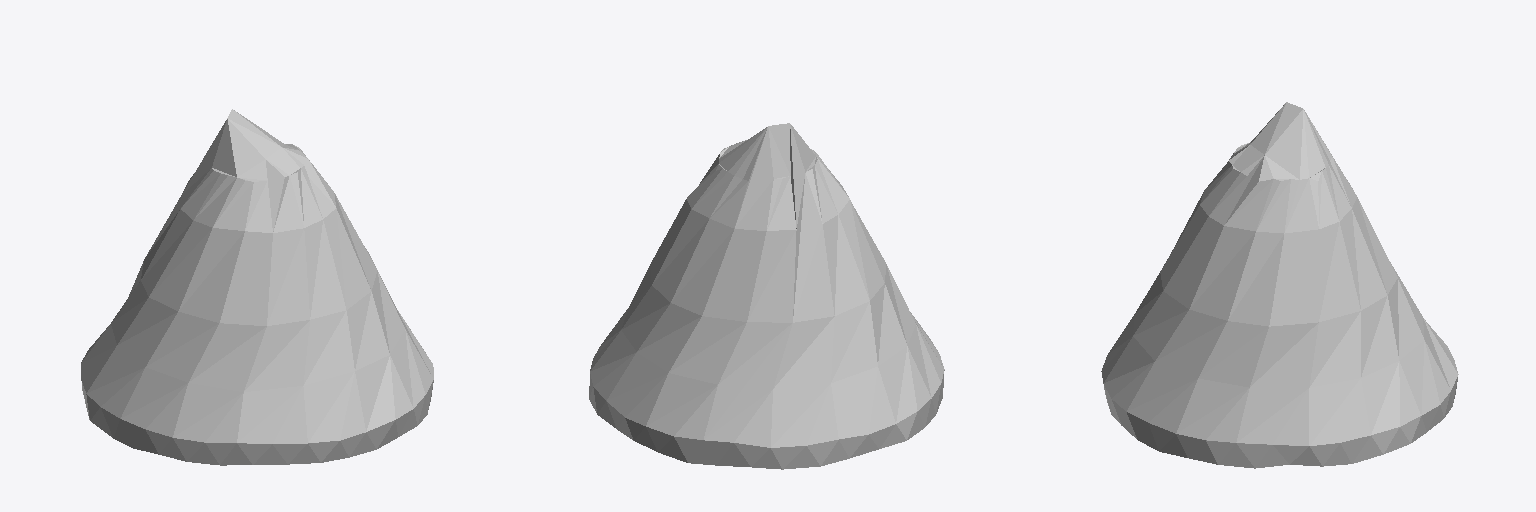
File: Vanilla Icecream.obj
The picture shows the model from 3 angles: view 1: azimuth 30°, elevation 25°; view 2: azimuth 150°, elevation 25°; view 3: azimuth 270°, elevation 25°; orthographic projection.
Parts seen in each view (by area): view 1: Vanilla_Icecream; view 2: Vanilla_Icecream; view 3: Vanilla_Icecream.
Boxes of the visible parts, box(x1,y1,x2,y2) form: Vanilla_Icecream: box(81, 109, 433, 465); Vanilla_Icecream: box(589, 123, 944, 469); Vanilla_Icecream: box(1101, 102, 1458, 468).
Size of the model in its own units: 0.093 by 0.0825 by 0.0943.